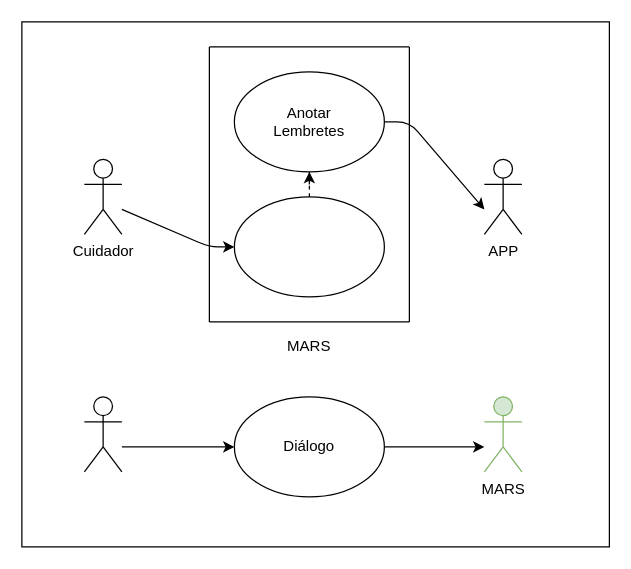
Some shapes in this 631 by 569 pixel diagram are drawn without their labels. The shapes that lost their labels are listed below. From the top down, each one's centre as x and y in pixels, then its label:
At pixel 308 246: "Iniciar Modulo de Diálogo".
At pixel 102 434: "Idoso".
